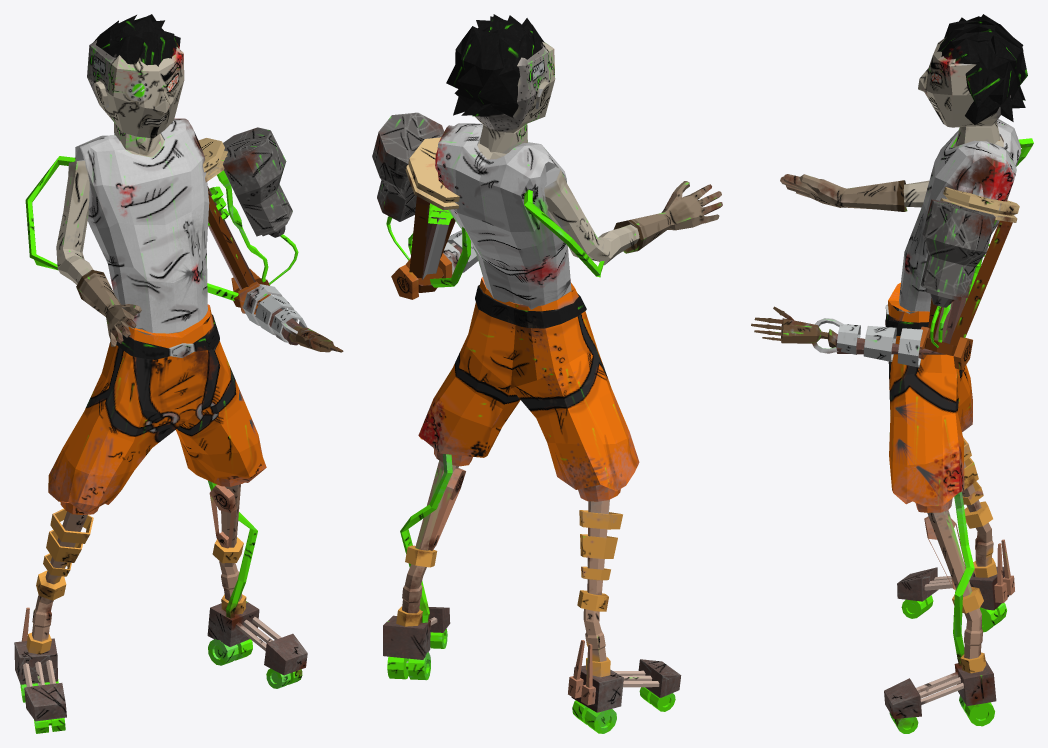
Rendered from CyborgFINALAnimation_000004.obj.
3 renders of one model, left to right at view 1: azimuth 30°, elevation 25°; view 2: azimuth 150°, elevation 25°; view 3: azimuth 270°, elevation 25°, orthographic. The views are drawn at different scales.
Parts seen in each view (by area): view 1: CyborgMesh_Cube.002; view 2: CyborgMesh_Cube.002; view 3: CyborgMesh_Cube.002.
Part boxes in pixels (x1,y1,x2,y2): CyborgMesh_Cube.002: [14, 14, 343, 733]; CyborgMesh_Cube.002: [372, 14, 722, 733]; CyborgMesh_Cube.002: [751, 14, 1033, 733].
Bounding box in the file's own units: 4.14 × 9.58 × 3.74.
